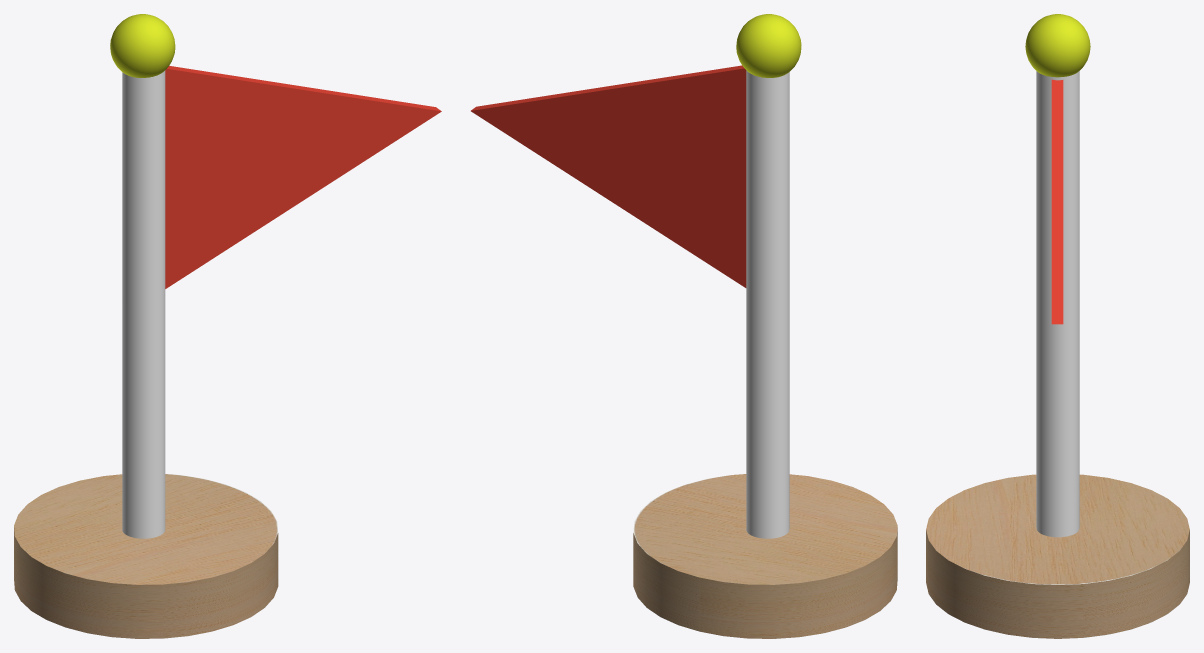
File: fiag.fbx
3 views of the same model, side by side, from view 1: azimuth 30°, elevation 25°; view 2: azimuth 150°, elevation 25°; view 3: azimuth 270°, elevation 25° (orthographic).
Parts seen in each view (by area): view 1: 円柱, 平面, 円柱.001, 球; view 2: 円柱, 平面, 円柱.001, 球; view 3: 円柱, 円柱.001, 球, 平面.
Part boxes in pixels (bbox=[...]): 円柱: bbox=[14, 474, 278, 638]; 平面: bbox=[165, 66, 441, 288]; 円柱.001: bbox=[122, 70, 165, 538]; 球: bbox=[110, 14, 175, 77]; 円柱: bbox=[633, 474, 897, 638]; 平面: bbox=[471, 65, 746, 287]; 円柱.001: bbox=[746, 70, 789, 538]; 球: bbox=[736, 14, 801, 77]; 円柱: bbox=[926, 474, 1189, 638]; 円柱.001: bbox=[1036, 71, 1079, 537]; 球: bbox=[1025, 14, 1090, 77]; 平面: bbox=[1051, 79, 1063, 324].
Size of the model in its own units: 1262 by 1679 by 710.
Materials: 4 (1 with a texture image).
